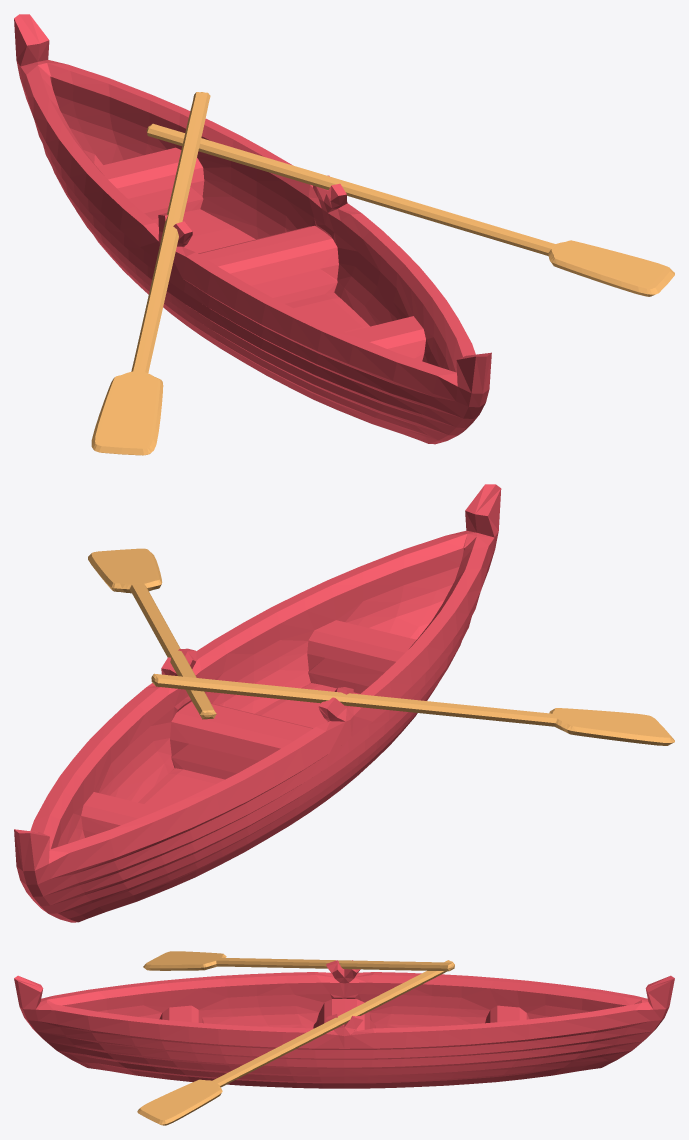
The model's file is Boat.fbx.
3 views of the same model, one above another, from view 1: azimuth 30°, elevation 25°; view 2: azimuth 150°, elevation 25°; view 3: azimuth 270°, elevation 25° (orthographic). The views are drawn at different scales.
Visible parts, largest first — view 1: Origin; view 2: Origin; view 3: Origin.
Part boxes in pixels (left/top/right/bottom): Origin: left=14, top=14, right=674, bottom=455; Origin: left=14, top=484, right=674, bottom=922; Origin: left=14, top=951, right=674, bottom=1125.
Size of the model in its own units: 791 by 206 by 1111.
